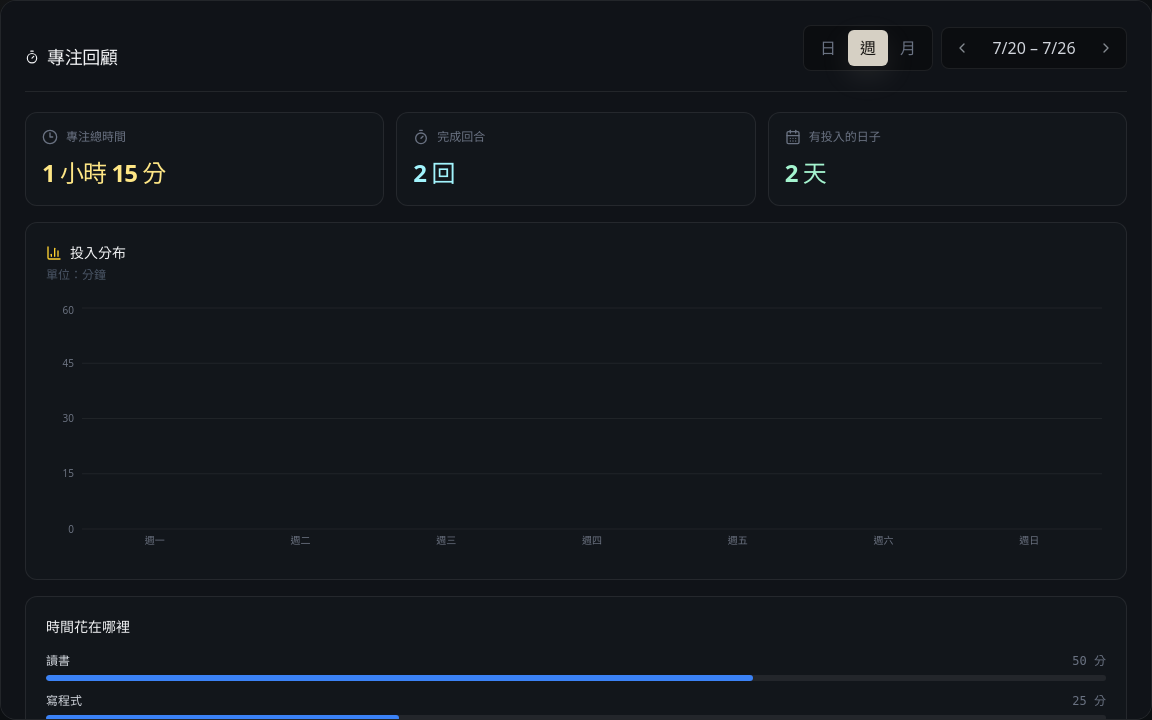
Scenario: FocusDashboard › navigates by the active period and keeps records internally scrollable
Click the button named "下一個期間". click: (1106, 48)
box: x1=1090 y1=32 x2=1122 y2=64
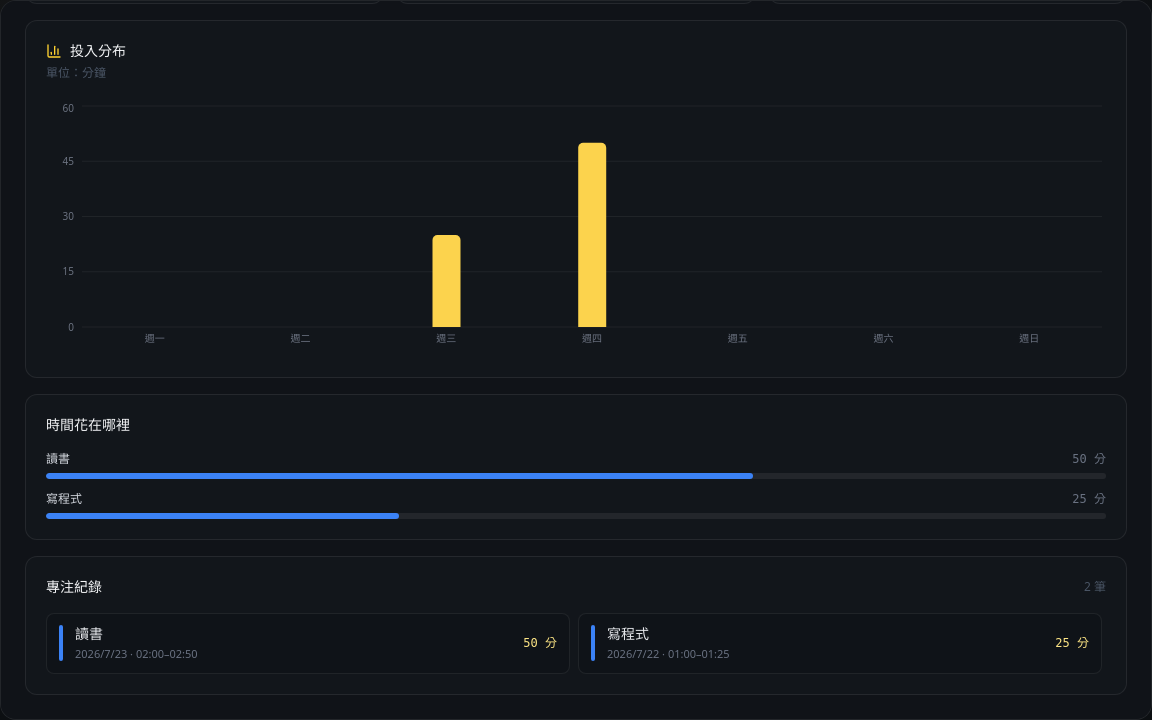
expect the element with class "overflow-y-auto" that starts with "50 分" is shown: met, box x1=46 y1=613 x2=1106 y2=674
